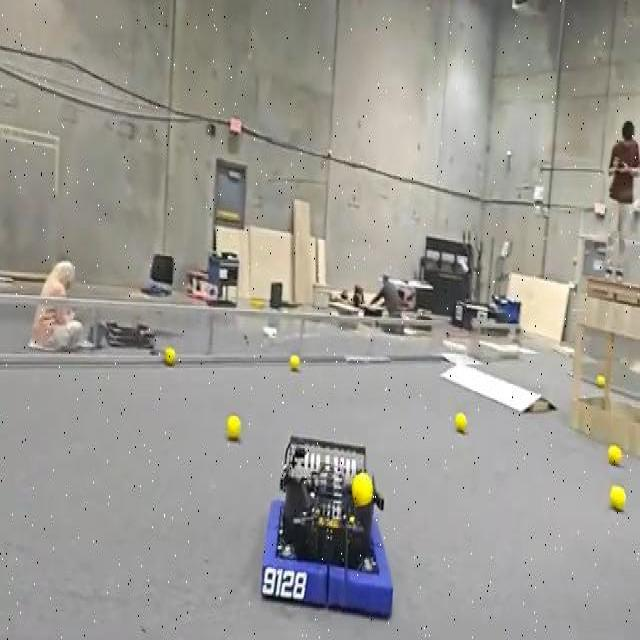Fuel: (351, 472, 374, 509), (351, 471, 373, 507), (609, 485, 626, 511), (226, 413, 241, 440), (610, 486, 625, 510), (226, 414, 240, 439), (608, 444, 622, 464), (608, 445, 622, 465), (455, 412, 467, 432), (455, 412, 466, 432), (164, 347, 175, 366), (164, 346, 175, 364), (289, 354, 300, 372), (289, 354, 299, 370), (596, 374, 606, 388), (596, 375, 605, 386)
